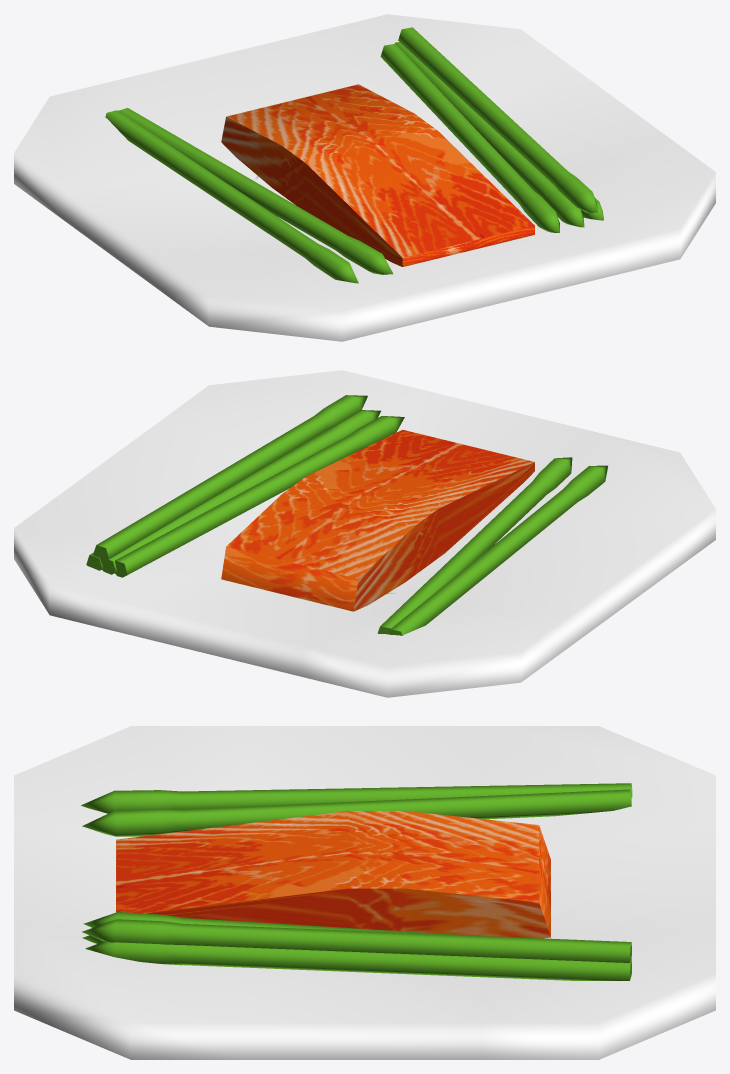
Rendered from asparagusSalmon.fbx.
The picture shows the model from 3 angles, top to bottom: view 1: azimuth 30°, elevation 25°; view 2: azimuth 150°, elevation 25°; view 3: azimuth 270°, elevation 25°; orthographic projection. The views are drawn at different scales.
Parts seen in each view (by area): view 1: asparagusSalmon; view 2: asparagusSalmon; view 3: asparagusSalmon.
Part boxes in pixels (box(x1,y1,x2,y2)): asparagusSalmon: box(14, 14, 715, 341); asparagusSalmon: box(14, 370, 715, 697); asparagusSalmon: box(14, 726, 715, 1059).
Size of the model in its own units: 40.64 by 4.93 by 40.64.
Materials: 3 (3 with a texture image).
